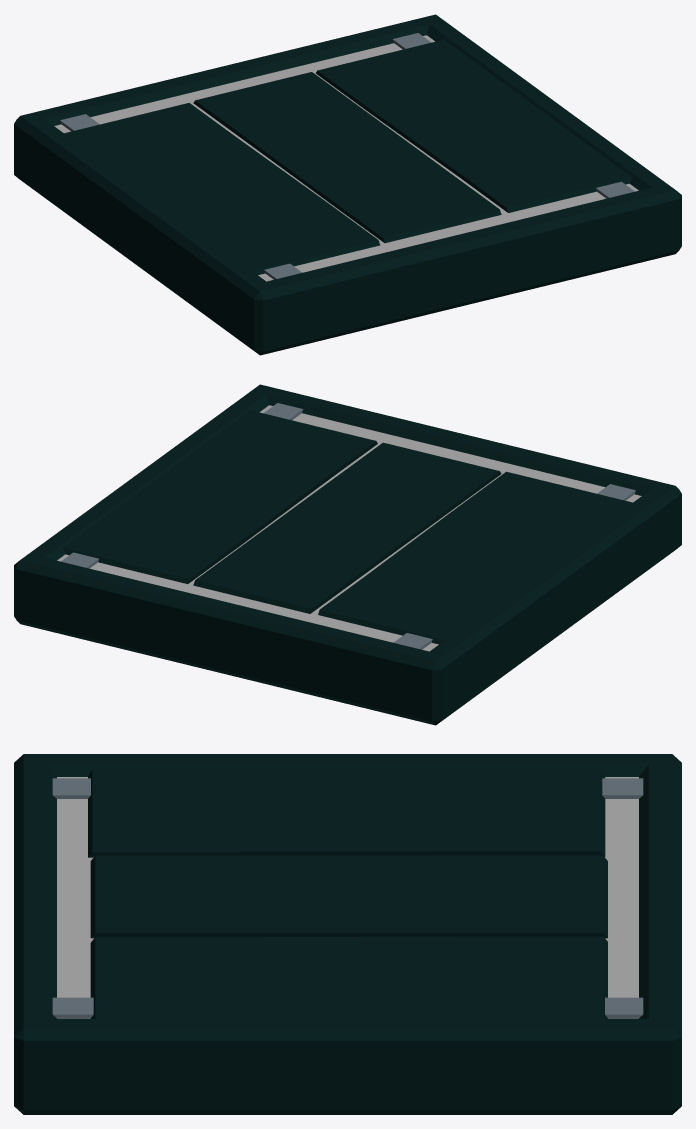
File: Platform_3.fbx
3 renders of one model, top to bottom at view 1: azimuth 30°, elevation 25°; view 2: azimuth 150°, elevation 25°; view 3: azimuth 270°, elevation 25°, orthographic. The views are drawn at different scales.
Parts seen in each view (by area): view 1: Platform_3; view 2: Platform_3; view 3: Platform_3.
Boxes of the visible parts, x1,y1,x2,y2 form: Platform_3: (14, 14, 681, 355); Platform_3: (14, 384, 681, 725); Platform_3: (14, 754, 681, 1114).
Size of the model in its own units: 9.98 by 1.43 by 9.98.
